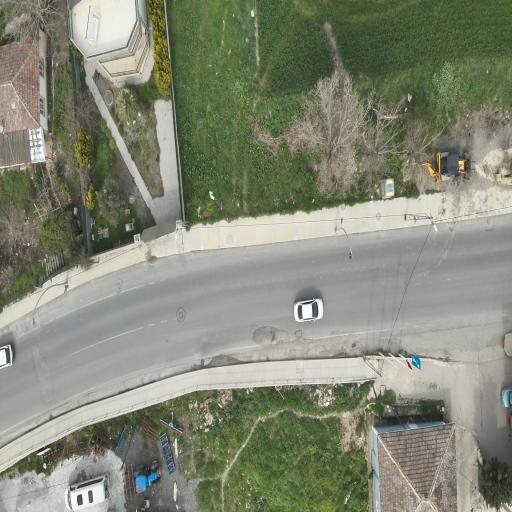car: (65, 474, 109, 511), (294, 299, 323, 322), (0, 345, 13, 368), (381, 179, 394, 199), (502, 388, 511, 408), (504, 333, 511, 356)
tractors: (134, 460, 161, 494)
